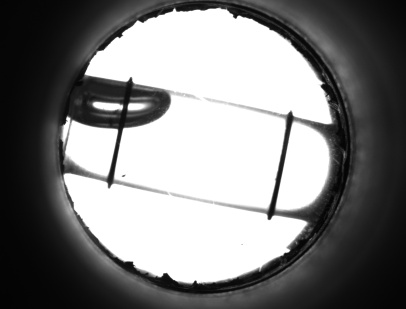line: (267, 134, 295, 201), (107, 138, 124, 170)
